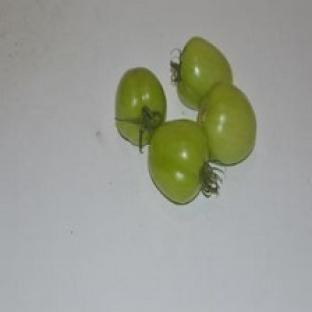Tomato: (148, 120, 218, 203), (198, 84, 256, 164), (172, 37, 232, 110), (116, 67, 167, 149)
